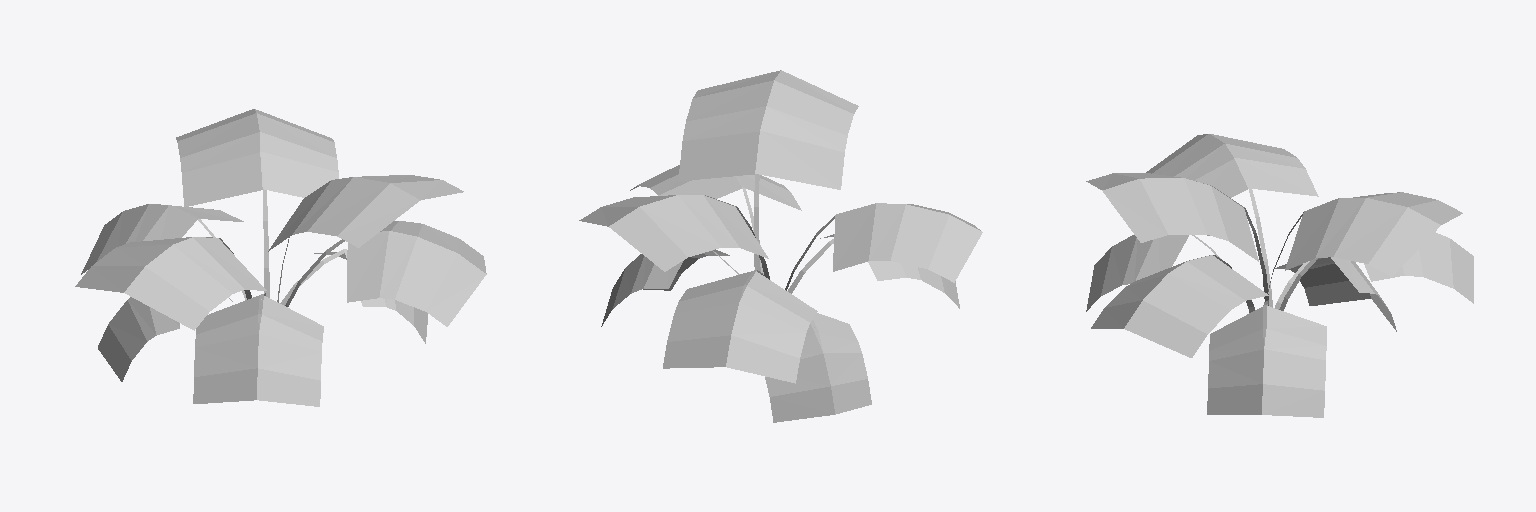
The model's file is monstera 02_lod2.obj.
3 renders of one model, left to right at view 1: azimuth 30°, elevation 25°; view 2: azimuth 150°, elevation 25°; view 3: azimuth 270°, elevation 25°, orthographic.
Visible parts, largest first — view 1: tree; view 2: tree; view 3: tree.
Boxes of the visible parts, x1,y1,x2,y2 form: tree: [75, 109, 486, 406]; tree: [579, 70, 982, 422]; tree: [1086, 134, 1473, 417].
Size of the model in its own units: 143 by 80.64 by 130.